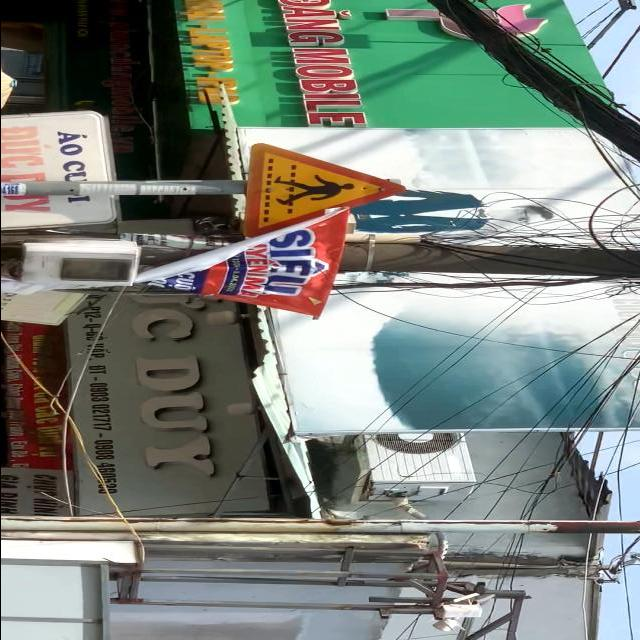W-224: (243, 142, 408, 235)
